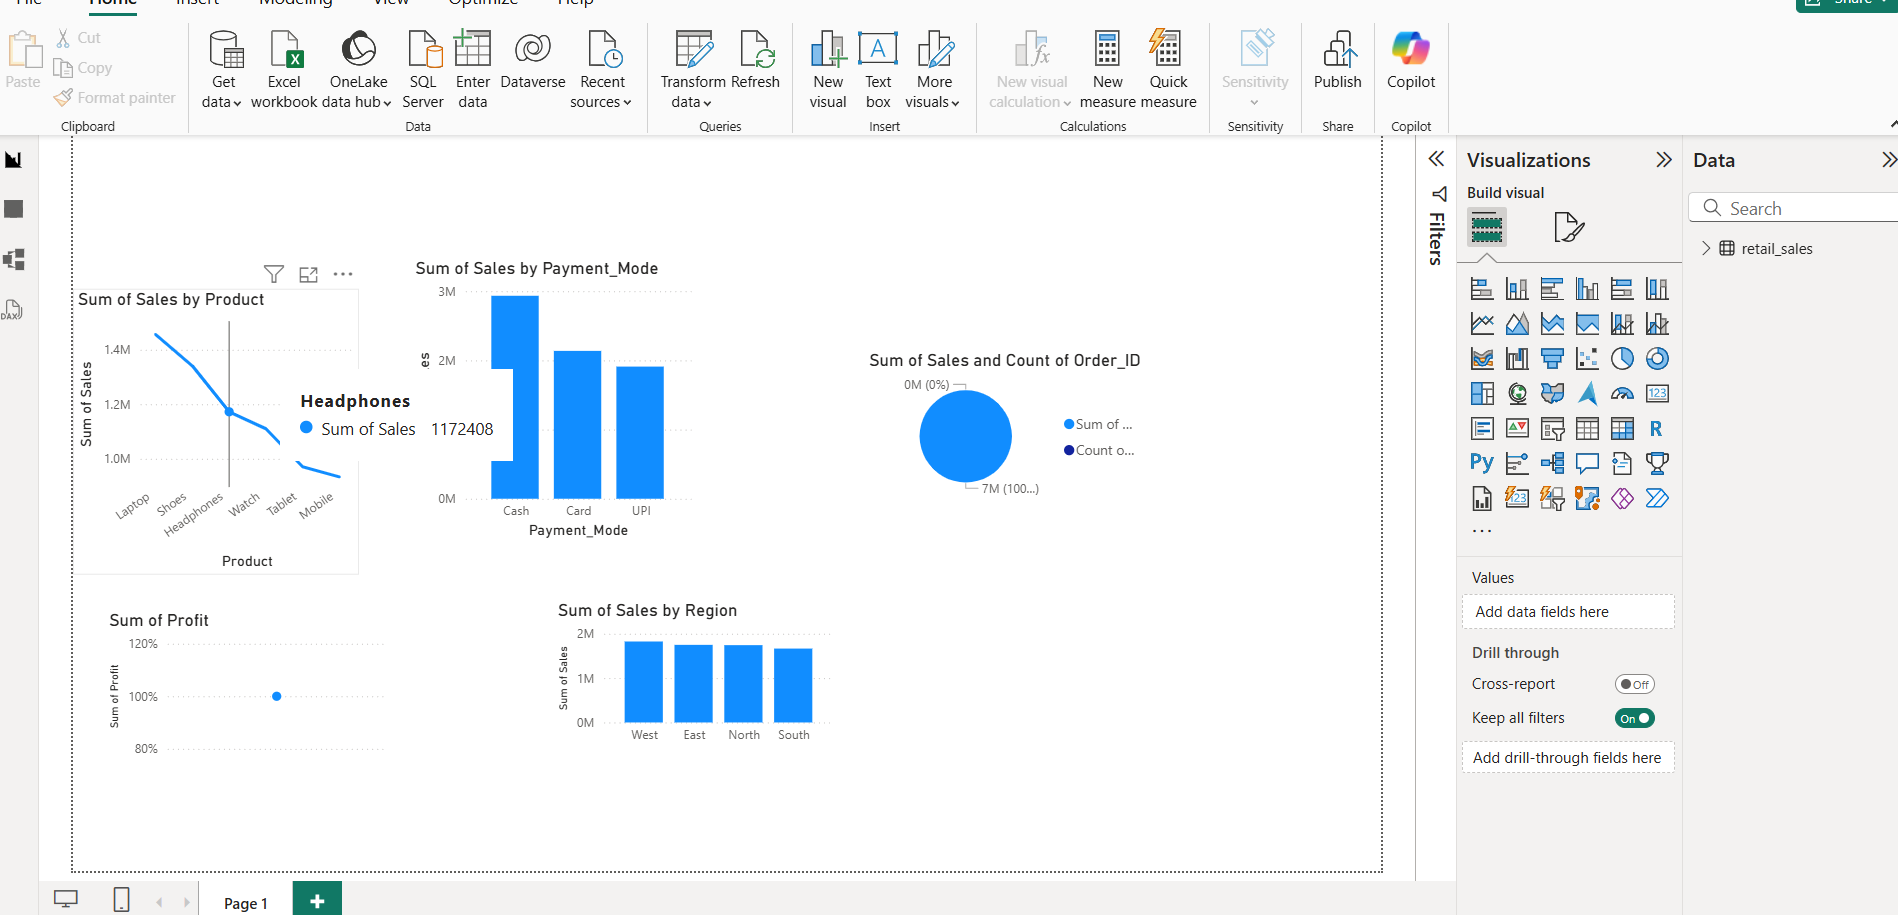

Layout of this report page (visuals, bound fields, positions):
{"tool":"powerbi","page":{"name":"Page 1","canvas":[1280,720],"ordinal":0},"visuals":[{"type":"clusteredColumnChart","fields":{"Y":["Sum(retail_sales.Sales)"],"Category":["retail_sales.Payment_Mode"]},"box":[330,120,280,280],"z":0},{"type":"lineChart","fields":{"Category":["retail_sales.Product"],"Y":["Sum(retail_sales.Sales)"]},"box":[0,150,280,280],"z":1},{"type":"hundredPercentStackedAreaChart","fields":{"Y":["Sum(retail_sales.Profit)"]},"box":[30,465,280,150],"z":2},{"type":"pieChart","fields":{"Y":["Sum(retail_sales.Sales)","CountNonNull(retail_sales.Order_ID)"]},"box":[773.8,210,280,150],"z":3},{"type":"columnChart","fields":{"Y":["Sum(retail_sales.Sales)"],"Category":["retail_sales.Region"]},"box":[470,455,280,150],"z":4}]}

Visuals, with their boxes on the page's 1280x720 design canvas (x1, y1, x2, y2). These are canvas units, not pixel positions in the 1898x915 screenshot, which may show the page scaled, cropped or inside an application window:
clusteredColumnChart - Sum(retail_sales.Sales) x retail_sales.Payment_Mode: {"x1": 330, "y1": 120, "x2": 610, "y2": 400}
lineChart - retail_sales.Product x Sum(retail_sales.Sales): {"x1": 0, "y1": 150, "x2": 280, "y2": 430}
hundredPercentStackedAreaChart - Sum(retail_sales.Profit): {"x1": 30, "y1": 465, "x2": 310, "y2": 615}
pieChart - Sum(retail_sales.Sales) x CountNonNull(retail_sales.Order_ID): {"x1": 774, "y1": 210, "x2": 1054, "y2": 360}
columnChart - Sum(retail_sales.Sales) x retail_sales.Region: {"x1": 470, "y1": 455, "x2": 750, "y2": 605}
